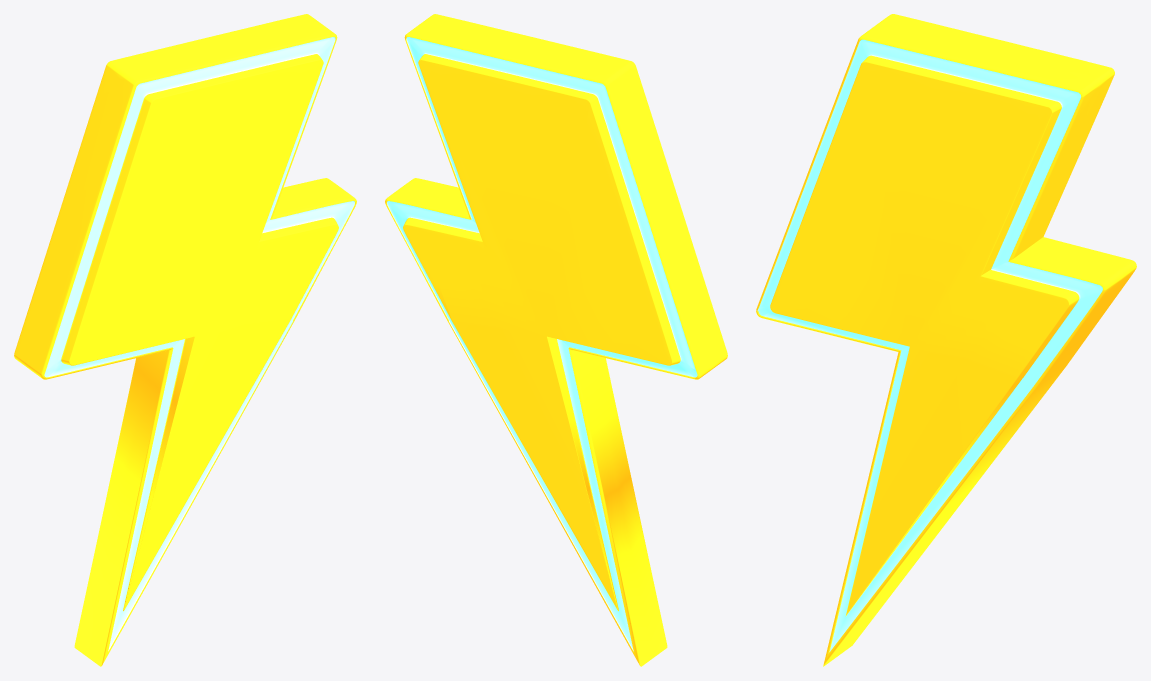
The model's file is battery.fbx.
3 renders of one model, left to right at view 1: azimuth 30°, elevation 25°; view 2: azimuth 150°, elevation 25°; view 3: azimuth 330°, elevation 25°, orthographic. The views are drawn at different scales.
Parts seen in each view (by area): view 1: pPlane1; view 2: pPlane1; view 3: pPlane1.
Part boxes in pixels (x1,y1,x2,y2): pPlane1: [14, 14, 356, 666]; pPlane1: [385, 14, 727, 666]; pPlane1: [756, 14, 1136, 666].
Size of the model in its own units: 122 by 214 by 28.78.
